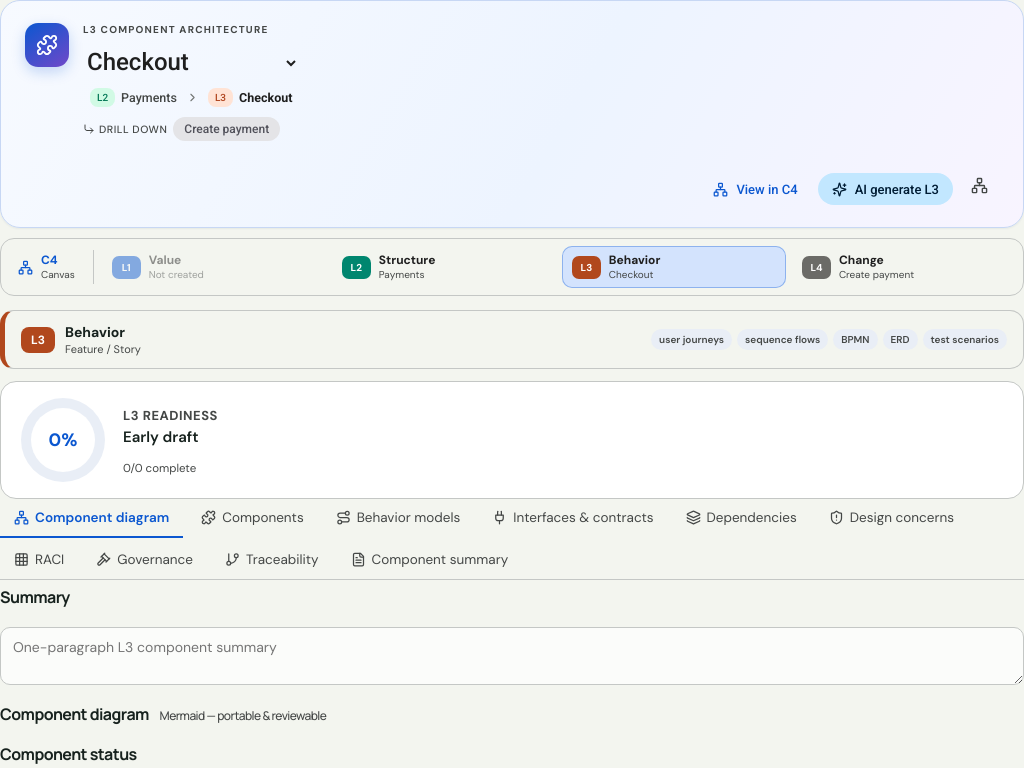
it: level workspace coverage › offers first-class L3 behavioral artifacts
Click the button "Behavior models": (398, 519) [322,499,474,538]
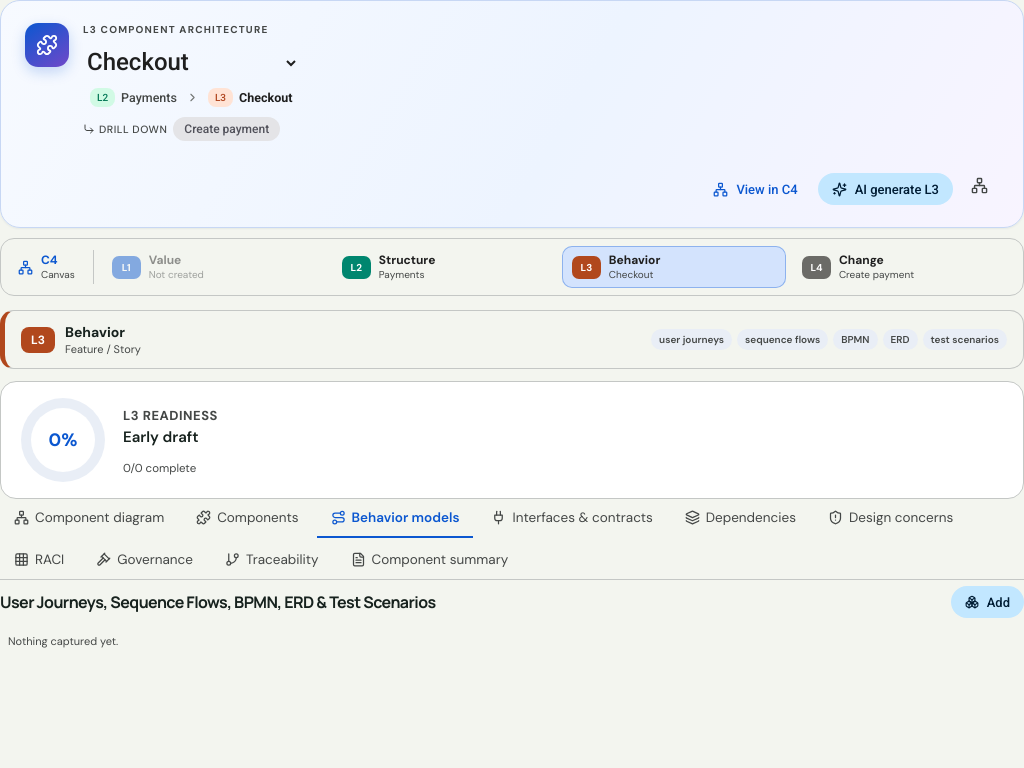
Check: the heading "User Journeys, Sequence Flows, BPMN, ERD & Test Scenarios" is shown, box [0,591,436,613]
Click the button "Add": (987, 602) [951,586,1023,618]
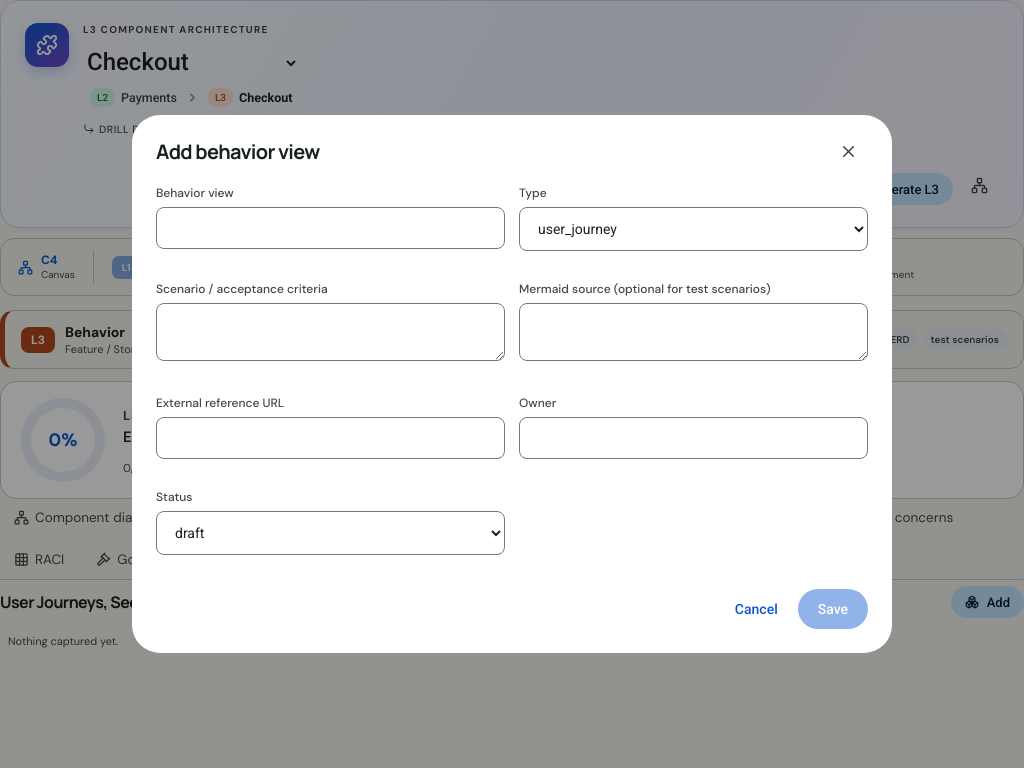
Check: the dialog "Add behavior view" is shown, box [132,115,892,653]
Check: the text "Mermaid source (optional for test scenarios)" is shown, box [519,281,771,297]
